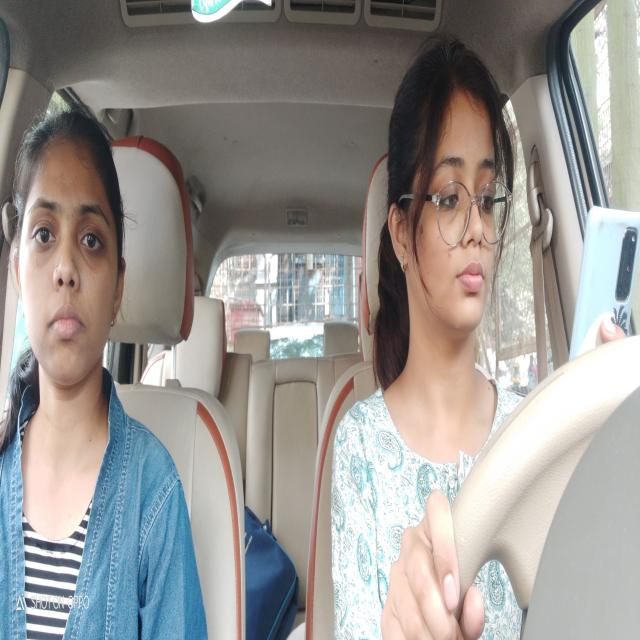mobile: (565, 202, 640, 392)
person: (385, 26, 519, 378), (12, 94, 127, 391)
